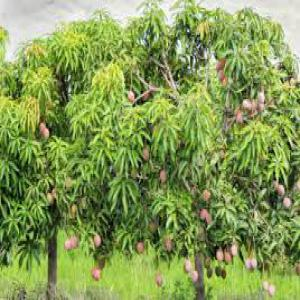Tree: (139, 6, 299, 297), (3, 11, 163, 294)
